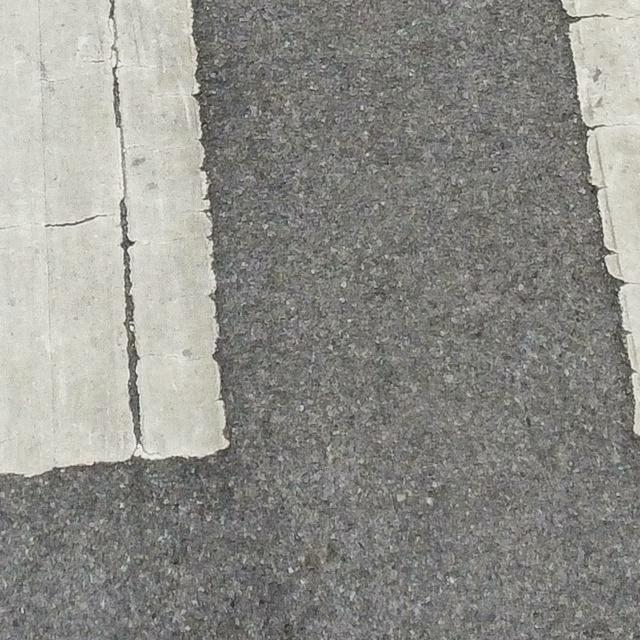LongitudinalCrack: (106, 1, 144, 447)
